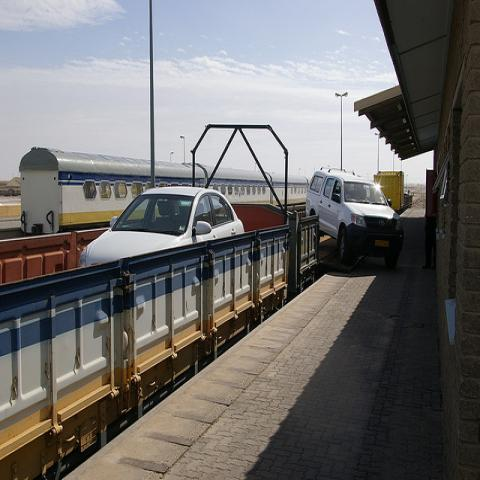car: (83, 184, 245, 266), (304, 168, 405, 268)
truck: (304, 166, 402, 262)
